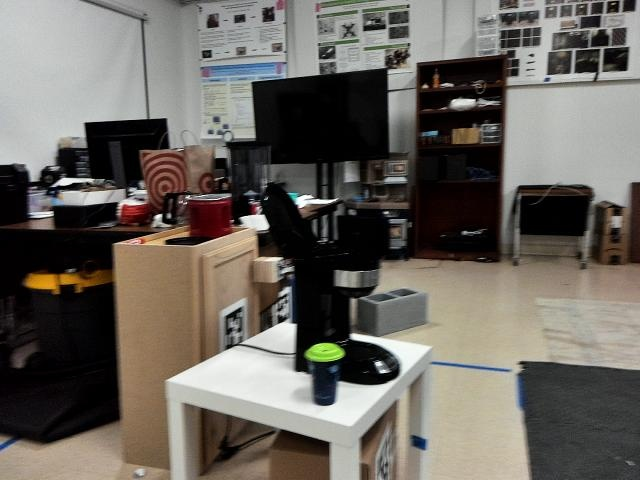useless_cup: (304, 342, 348, 409)
